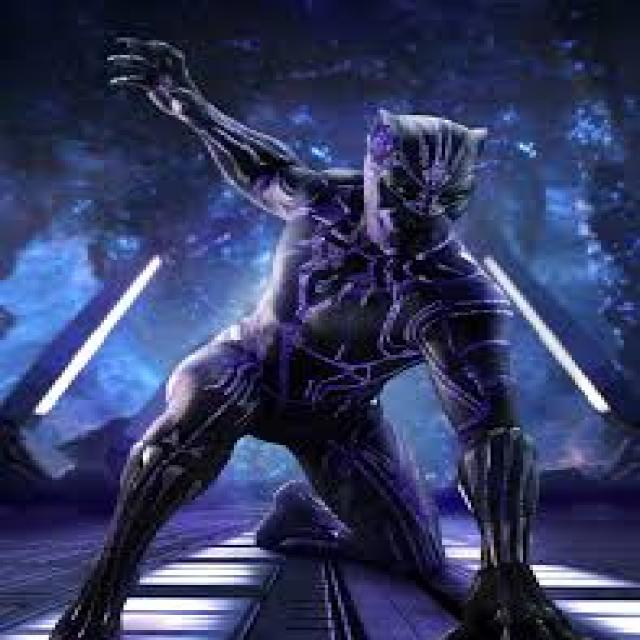black panther: (7, 1, 640, 640)
